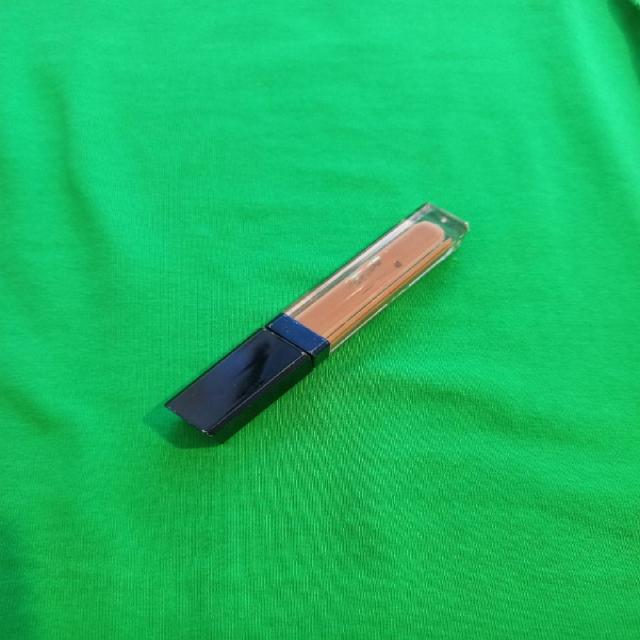lipstick: (163, 202, 468, 439)
